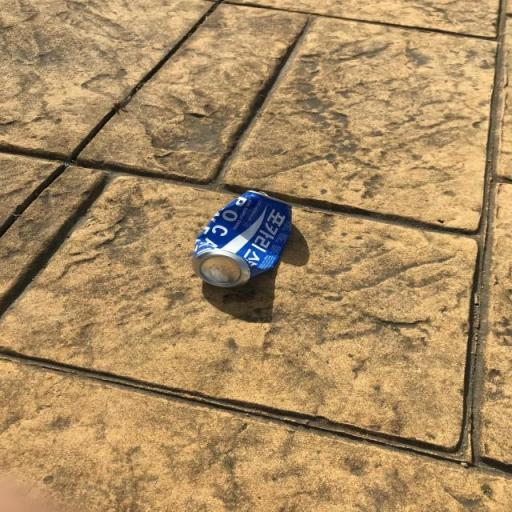metal: (177, 178, 316, 304)
